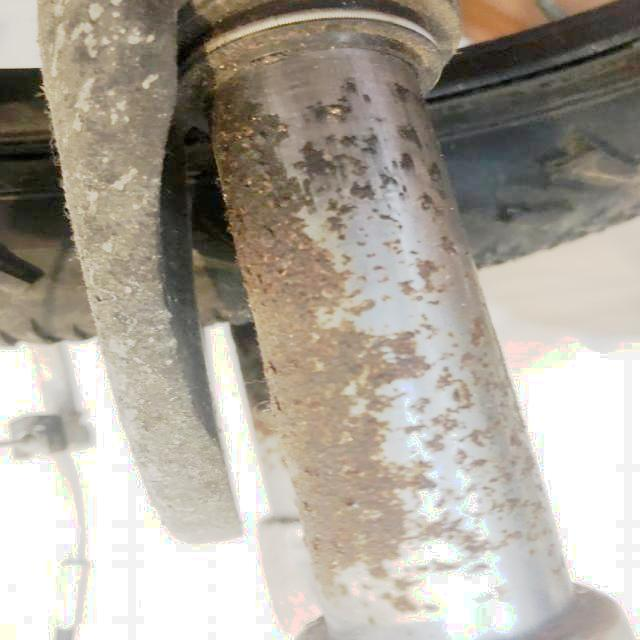Corrosion: (207, 86, 569, 614)
